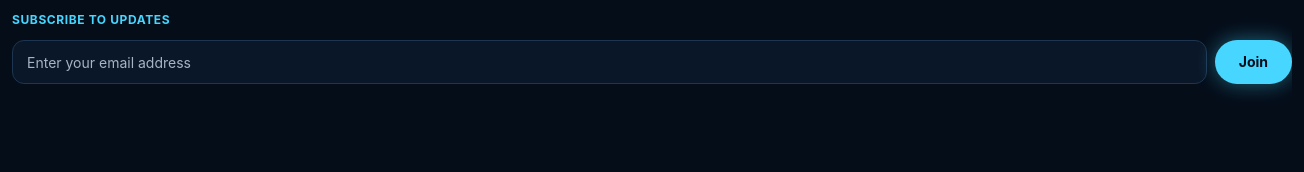
Test: NewsletterForm › asks for an email when the field is empty
Click the button "Join".
click(1253, 62)  # box [1215,40,1292,84]
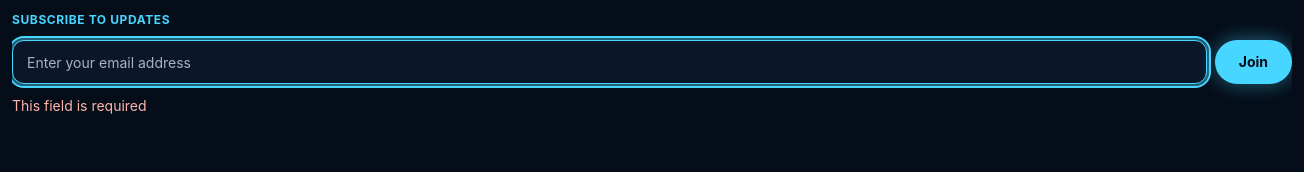
Expected: the message "This field is required" is shown, [12,97,147,114]
